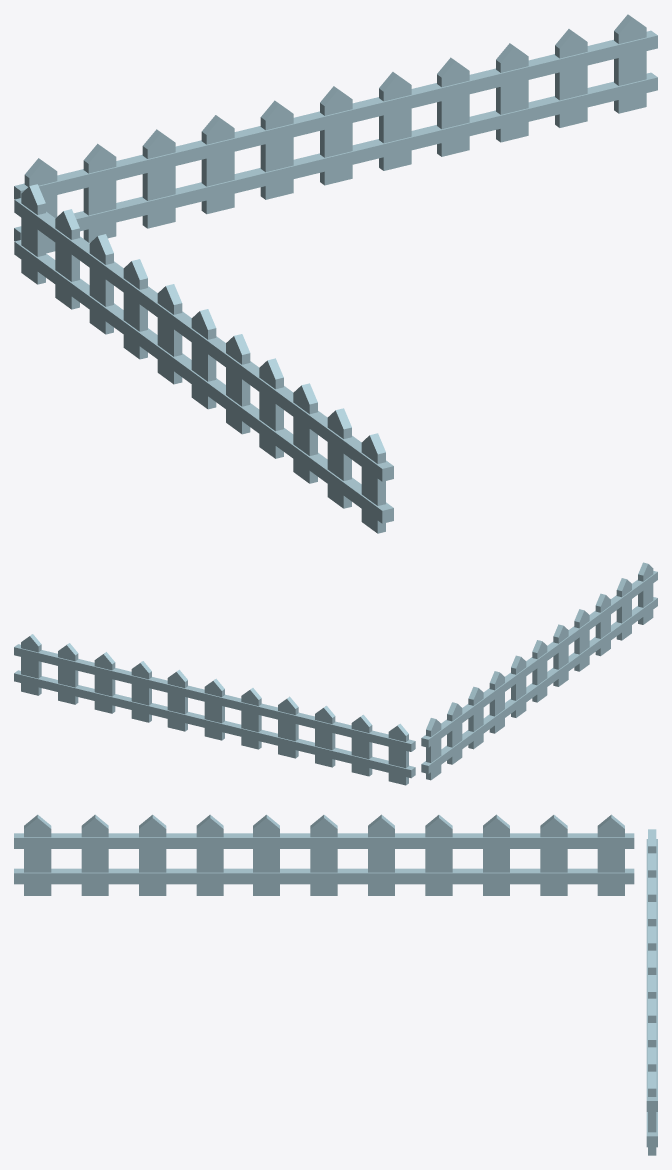
The model's file is Playground_Fence.fbx.
The picture shows the model from 3 angles, top to bottom: view 1: azimuth 30°, elevation 25°; view 2: azimuth 150°, elevation 25°; view 3: azimuth 270°, elevation 25°; orthographic projection. The views are drawn at different scales.
Visible parts, largest first — view 1: Playground_Fence; view 2: Playground_Fence; view 3: Playground_Fence.
Boxes of the visible parts, x1,y1,x2,y2 form: Playground_Fence: (14, 14, 657, 533); Playground_Fence: (14, 562, 657, 785); Playground_Fence: (14, 814, 657, 1155).
Size of the model in its own units: 487 by 66.25 by 495.
